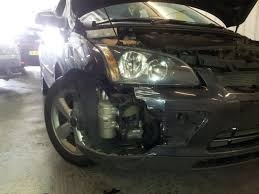Dent: (75, 84, 174, 161)
